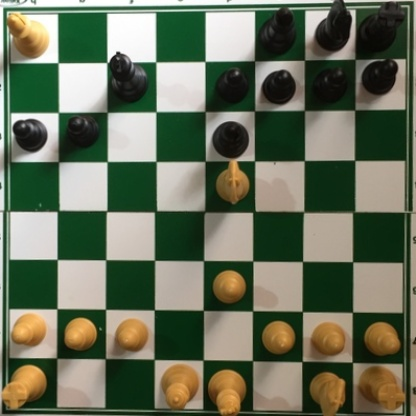black-bishop: (255, 1, 296, 57), (211, 120, 250, 159)
black-king: (105, 52, 147, 104)
black-knight: (315, 1, 353, 54)
black-pawn: (360, 56, 399, 96), (309, 66, 348, 105), (213, 68, 250, 107), (9, 117, 48, 153), (64, 112, 99, 150), (261, 68, 296, 106)
black-rook: (356, 1, 404, 53)
white-bishop: (5, 10, 52, 61)
white-king: (205, 366, 248, 416)
white-knight: (216, 158, 251, 209), (309, 370, 346, 416)
white-pawn: (360, 321, 403, 361), (11, 306, 47, 349), (60, 315, 99, 354), (308, 318, 346, 357), (112, 316, 151, 353), (211, 267, 247, 306), (258, 320, 297, 355)
white-queen: (157, 362, 199, 411)
white-rook: (354, 362, 406, 411), (1, 363, 49, 410)
